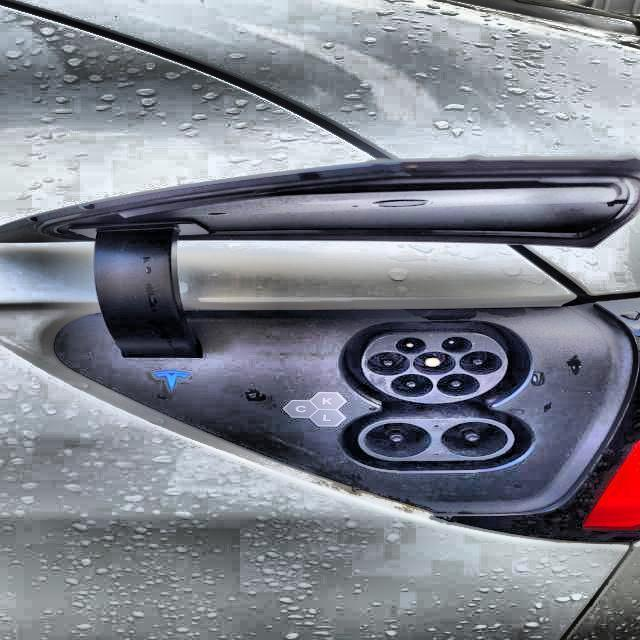inlet: (361, 333, 508, 404)
inlet-above-left: (396, 337, 426, 354)
inlet-above-right: (442, 337, 473, 354)
inlet-below-left: (391, 374, 433, 397)
inlet-below-right: (437, 373, 480, 397)
inlet-center: (413, 351, 456, 376)
inlet-center-left: (368, 352, 411, 376)
inlet-center-right: (460, 351, 503, 375)
